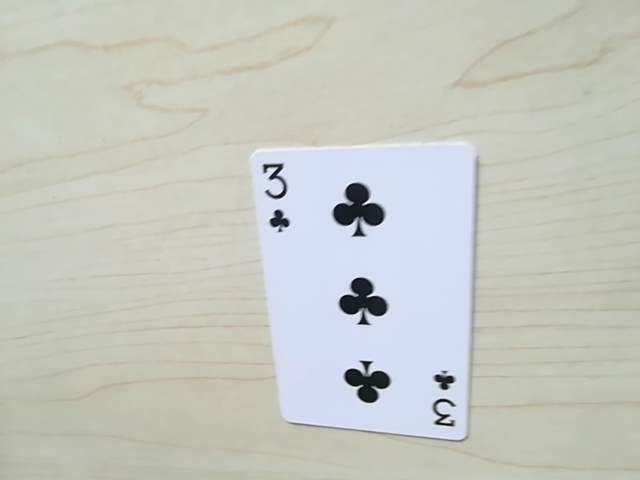mh 3: (255, 157, 292, 237), (421, 368, 462, 433)
